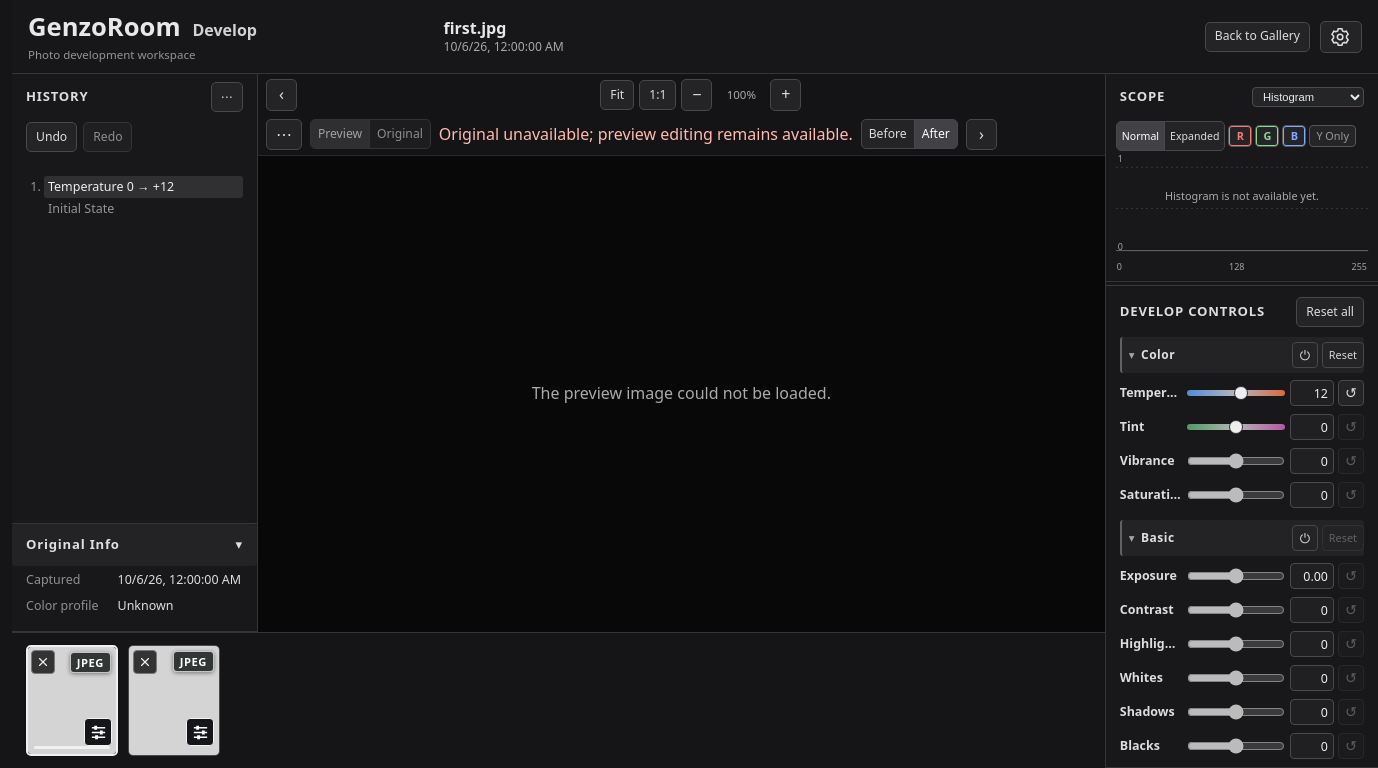
Test case: Anshitsu Export Queue integration › does not enqueue after failed save and shows a translated alert
What coordinates should you click on to do the following:
click the button named "Disable Basic"
I would click on:
 (1305, 538)
Its box is [1292,525,1318,551].
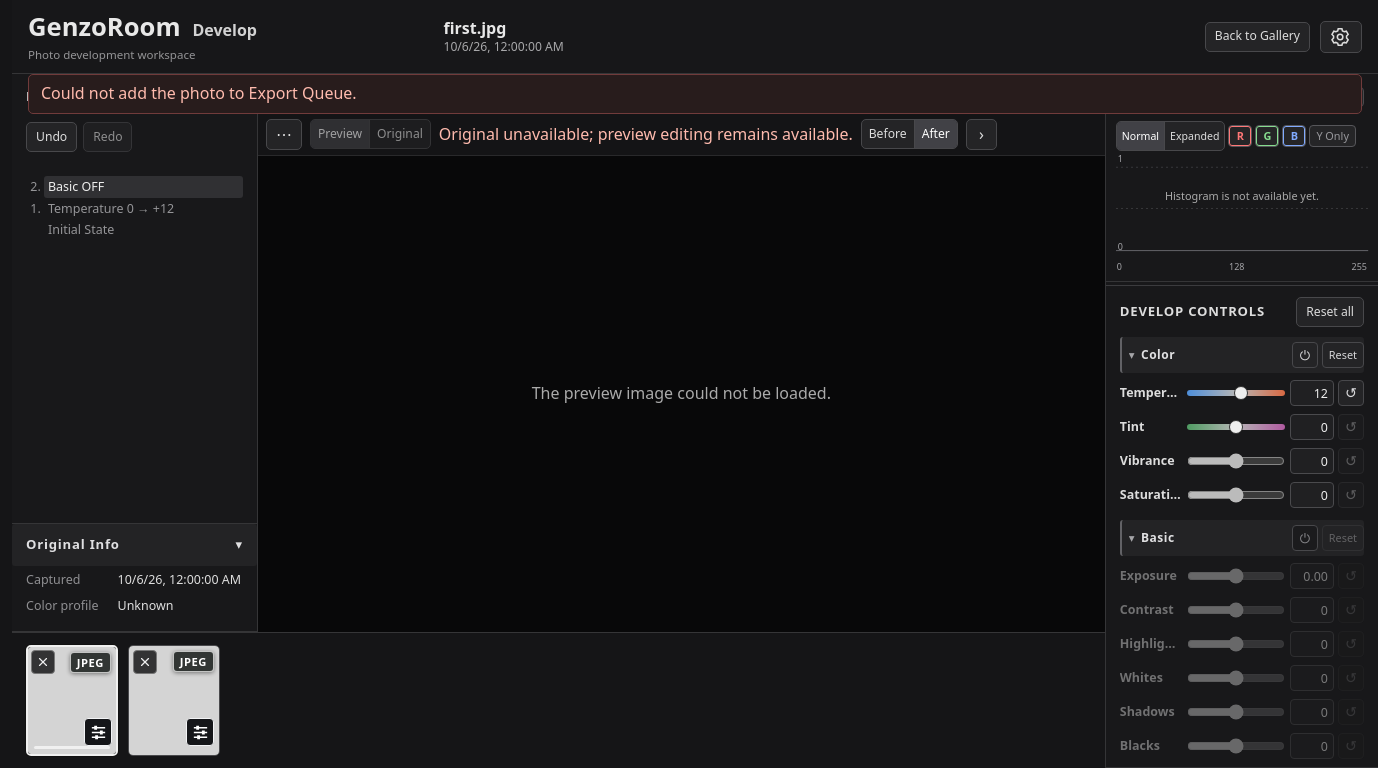
Check: the message with class "workspace-queue-error" shows "Could not add", box [41,82,357,104]
